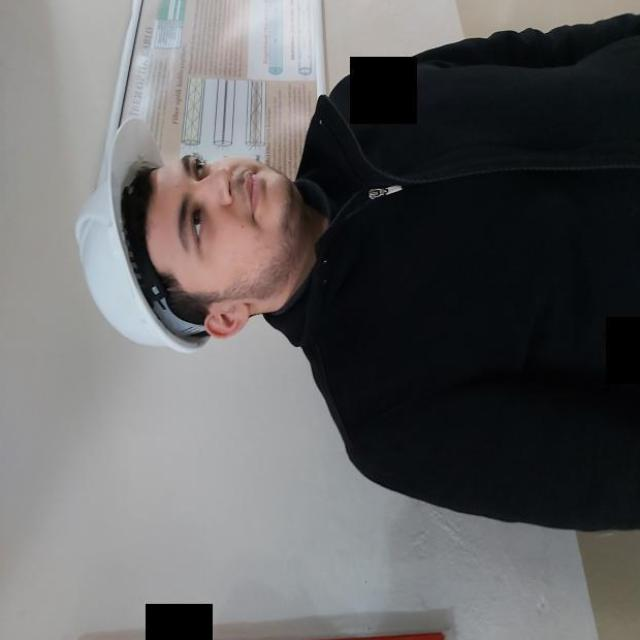helmet: (57, 110, 232, 374)
